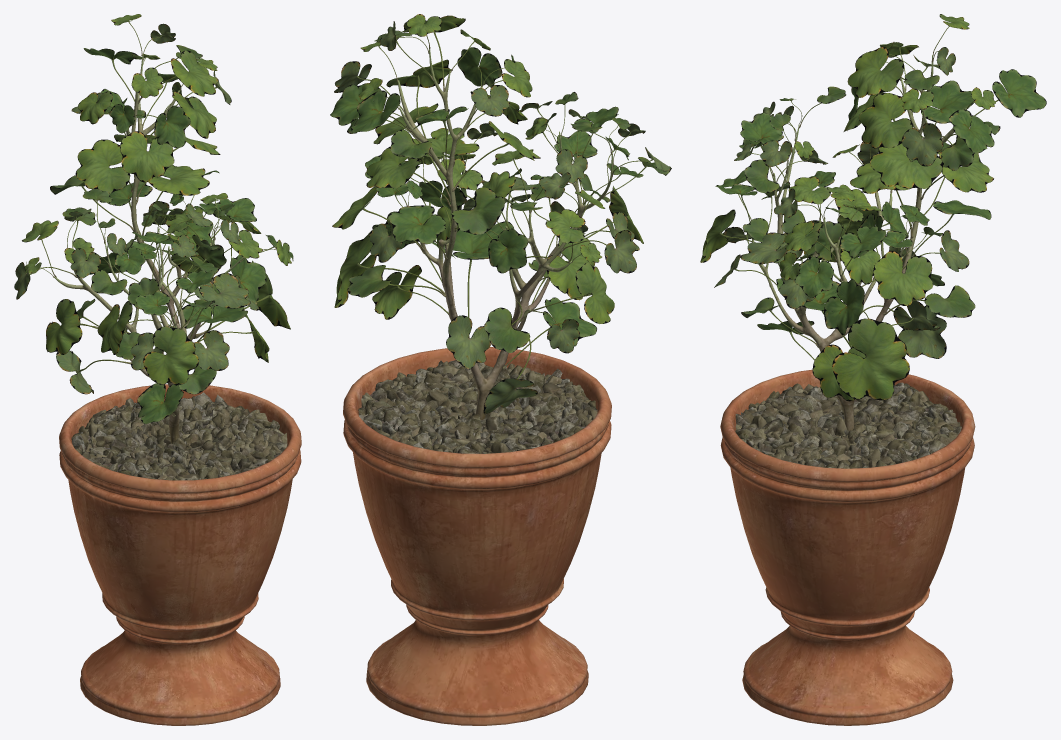
The model's file is potted_plant_01.gltf.
3 renders of one model, left to right at view 1: azimuth 30°, elevation 25°; view 2: azimuth 150°, elevation 25°; view 3: azimuth 270°, elevation 25°, orthographic. The views are drawn at different scales.
Parts seen in each view (by area): view 1: potted_plant_01_pot, potted_plant_01_leaves, potted_plant_01_pebbles, potted_plant_01_stem; view 2: potted_plant_01_pot, potted_plant_01_leaves, potted_plant_01_pebbles, potted_plant_01_stem; view 3: potted_plant_01_pot, potted_plant_01_leaves, potted_plant_01_pebbles, potted_plant_01_stem.
Boxes of the visible parts, x1,y1,x2,y2 form: potted_plant_01_pot: (59,384,301,725); potted_plant_01_leaves: (14,14,293,423); potted_plant_01_pebbles: (71,392,287,480); potted_plant_01_stem: (53,54,244,443); potted_plant_01_pot: (343,347,611,725); potted_plant_01_leaves: (330,14,671,414); potted_plant_01_pebbles: (358,360,597,453); potted_plant_01_stem: (397,49,612,420); potted_plant_01_pot: (720,369,975,725); potted_plant_01_leaves: (700,14,1046,401); potted_plant_01_pebbles: (735,382,961,468); potted_plant_01_stem: (751,55,966,431).
Bounding box in the file's own units: 0.5874 × 1.34 × 0.6336.
2 materials, 2 textured.
